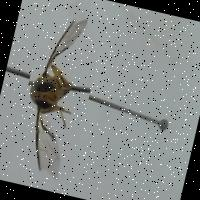Oriental-fruit-fly: (6, 0, 106, 184)
